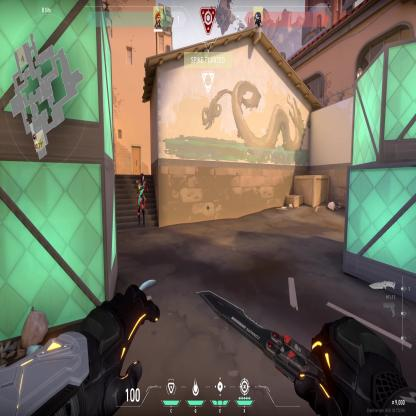enemy: (135, 172, 146, 230)
